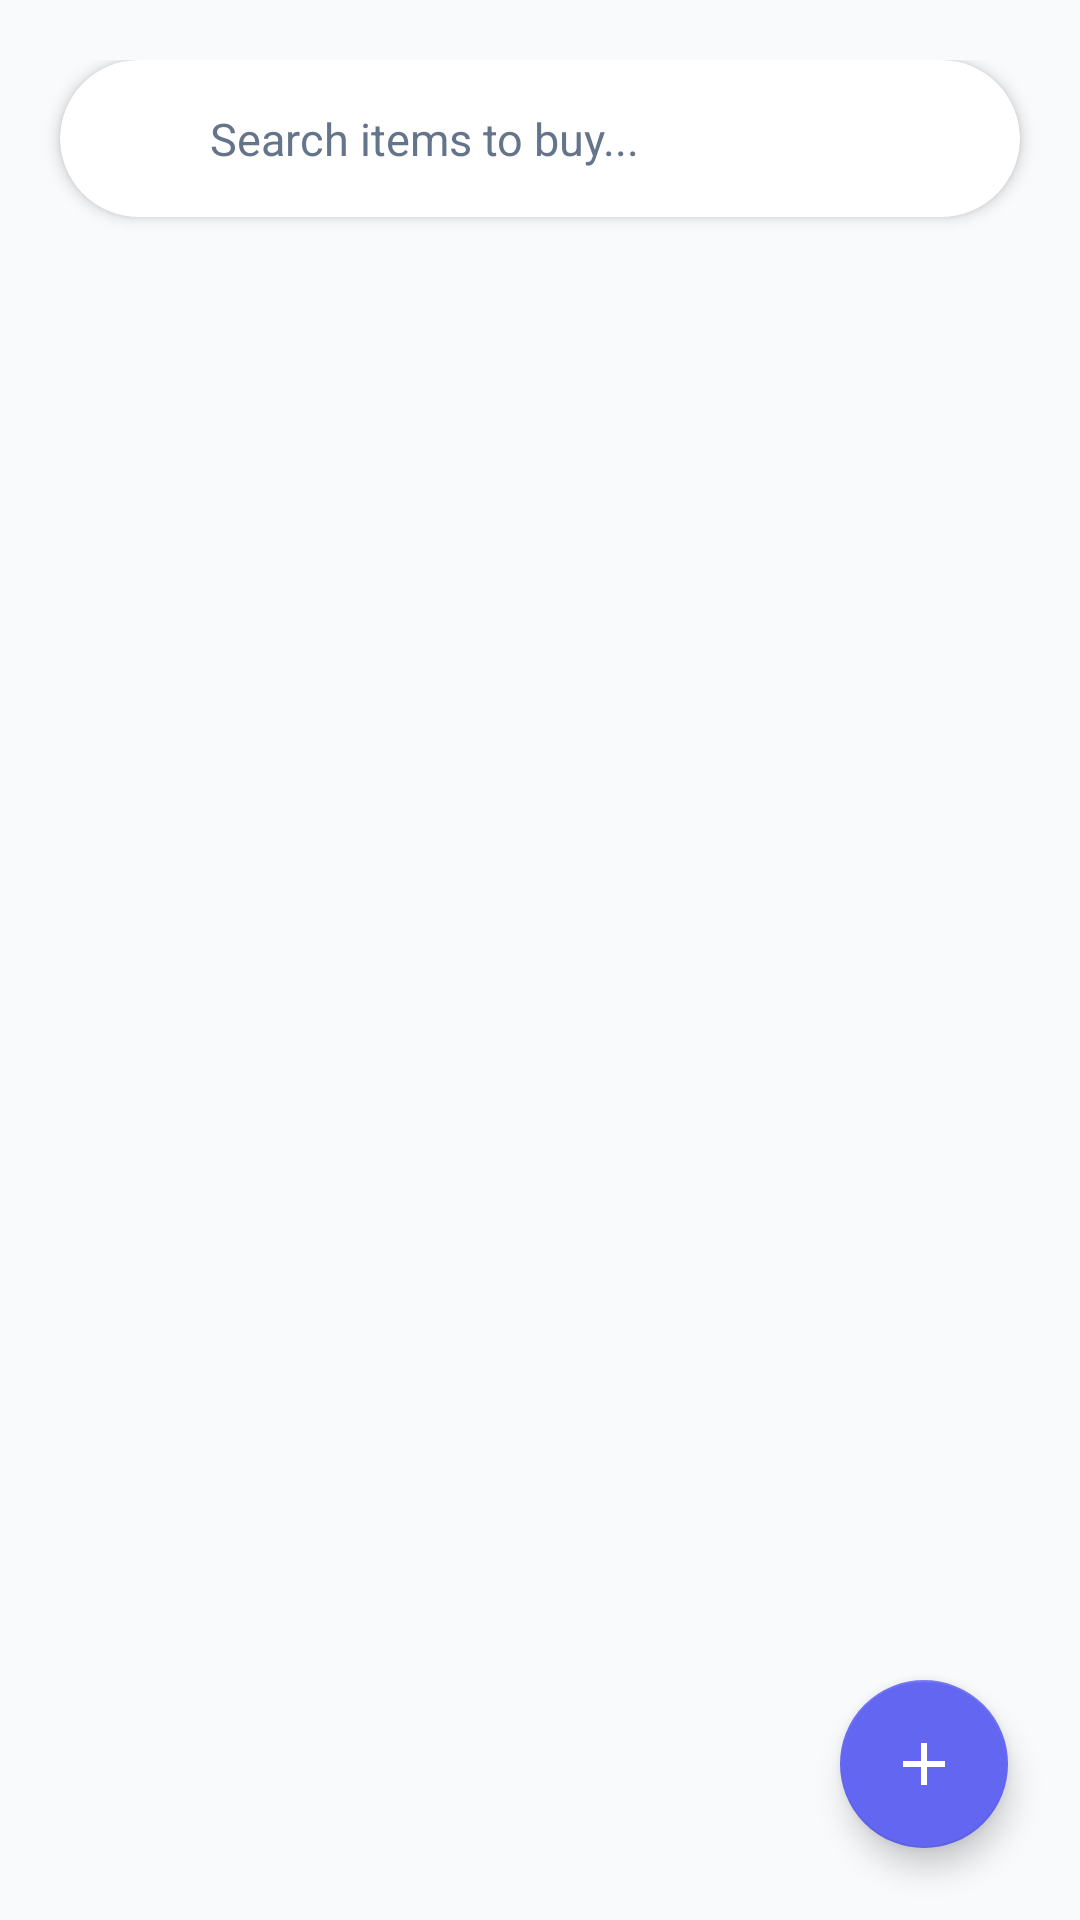

Icon click points for this 1080px×1920px phone screenshot, format (x=x, y=y):
Sell Item: (x=924, y=1764)
